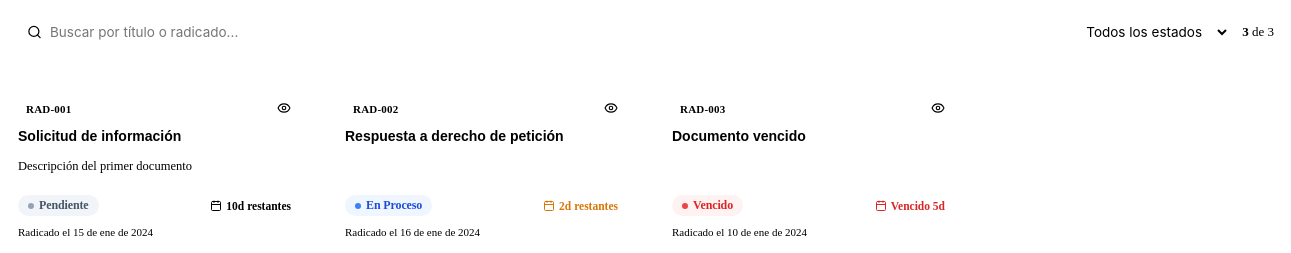
Test: DocumentsList › search filtering › should filter documents by title search
In the field with placeholder "Buscar por título o radicado...": (560,32) [16,16,1104,48], type "Solicitud"
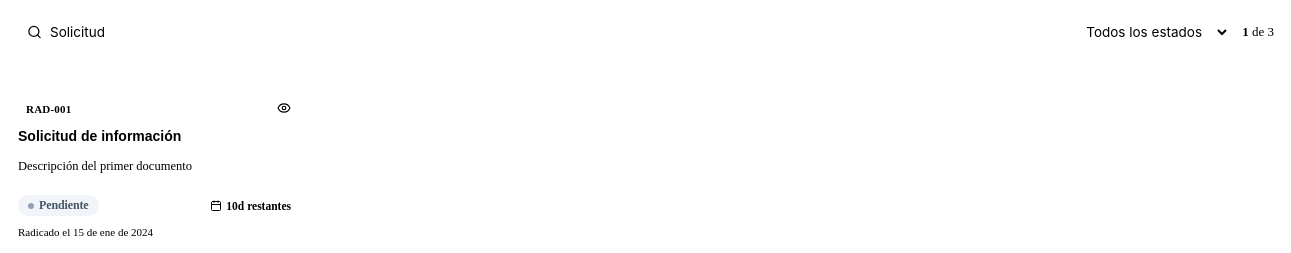
Expected: the heading "Solicitud de información" is shown, [18,128,181,144]
Expected: the heading "Respuesta a derecho de petición" is gone
